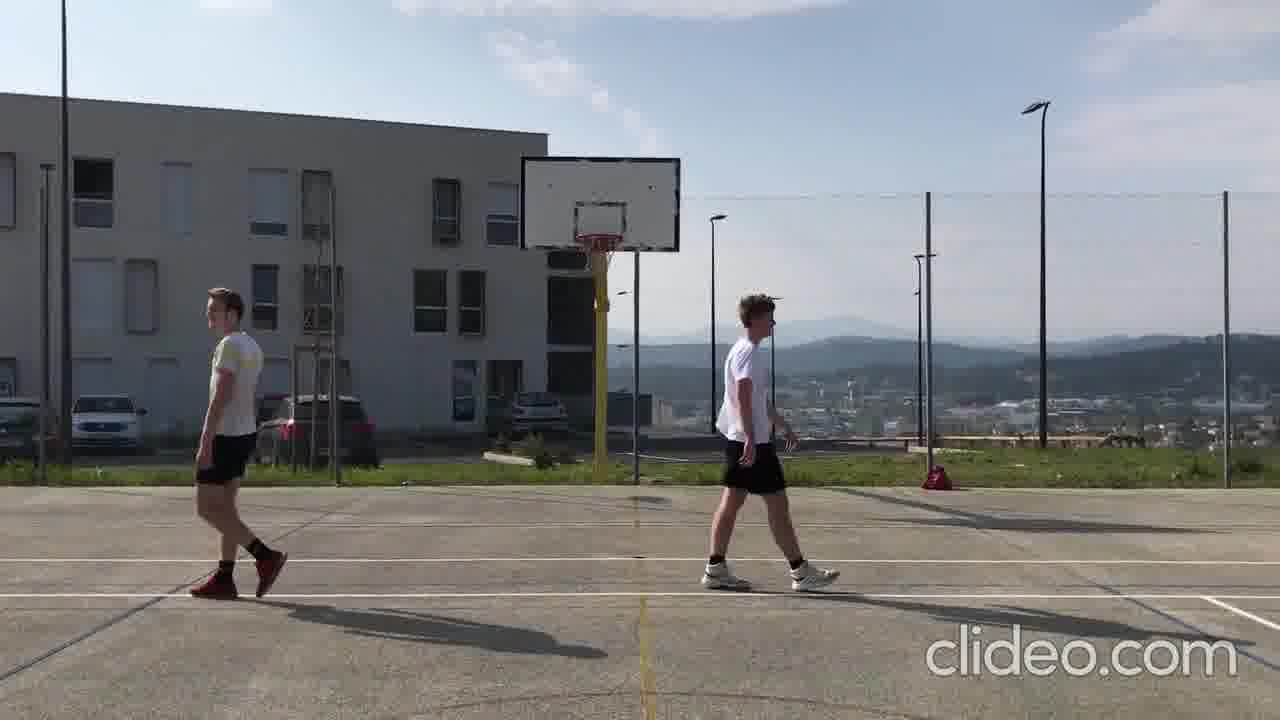jugador: (165, 271, 296, 618)
